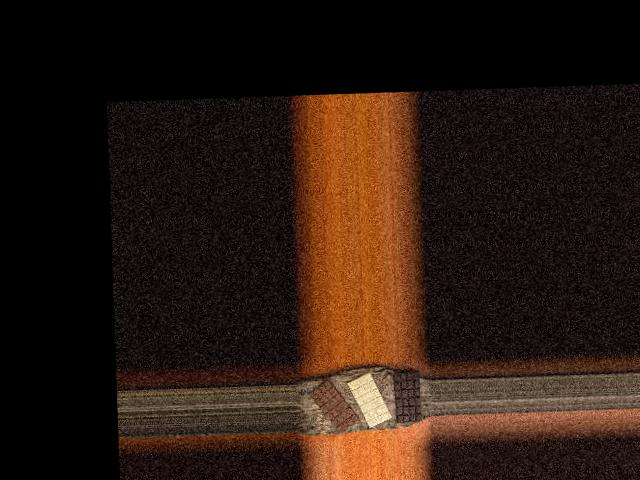chocolate: (394, 369, 422, 423)
